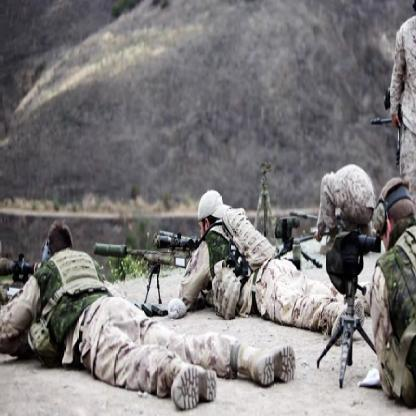Gun: (91, 213, 203, 312)
